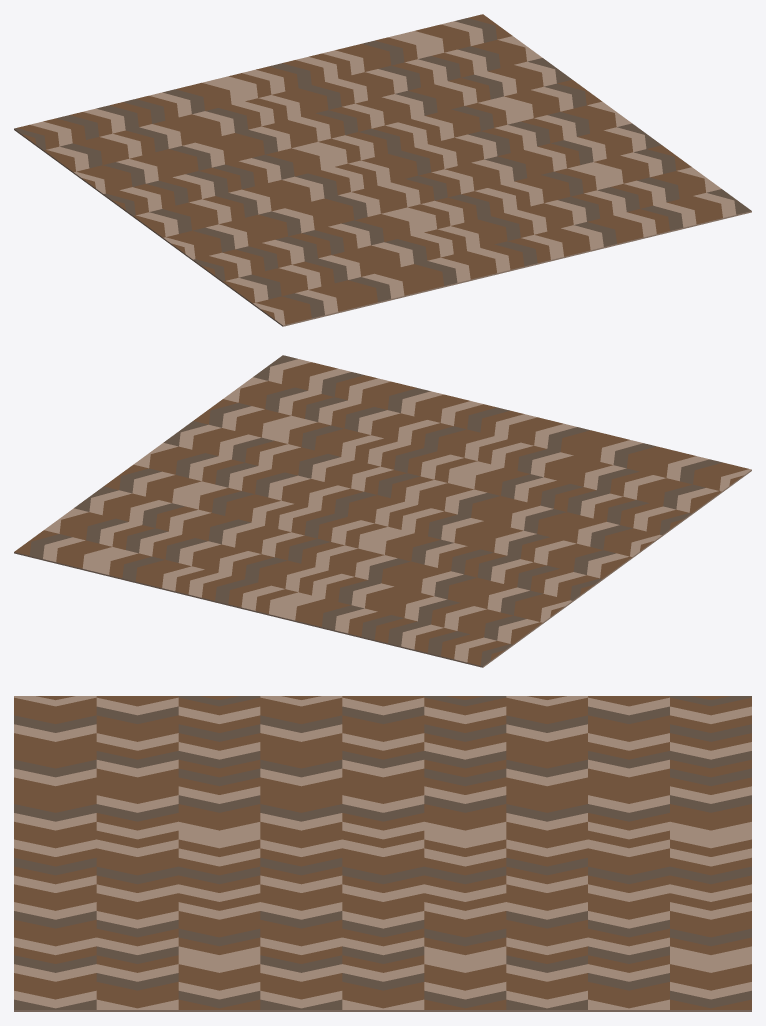
The model's file is Floor_1.fbx.
3 renders of one model, top to bottom at view 1: azimuth 30°, elevation 25°; view 2: azimuth 150°, elevation 25°; view 3: azimuth 270°, elevation 25°, orthographic. The views are drawn at different scales.
Visible parts, largest first — view 1: Floor_1; view 2: Floor_1; view 3: Floor_1.
Part boxes in pixels (x1,y1,x2,y2): Floor_1: (14,14,751,326); Floor_1: (14,355,751,667); Floor_1: (14,696,751,1011).
Bounding box in the file's own units: 492 × 489 × 1.42.
